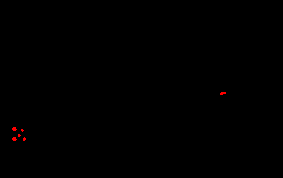Target: (12, 127, 17, 131), (12, 137, 17, 141), (220, 92, 226, 95), (23, 137, 26, 141), (21, 129, 24, 132), (18, 134, 21, 137)
